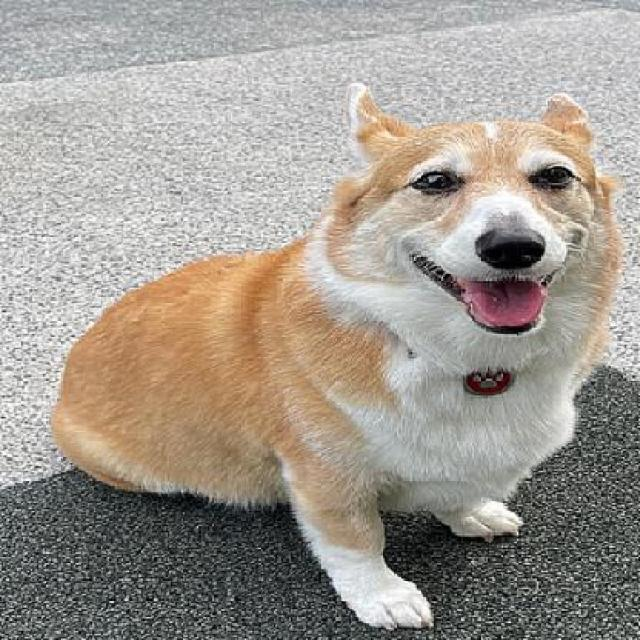Dog: (49, 77, 623, 638)
